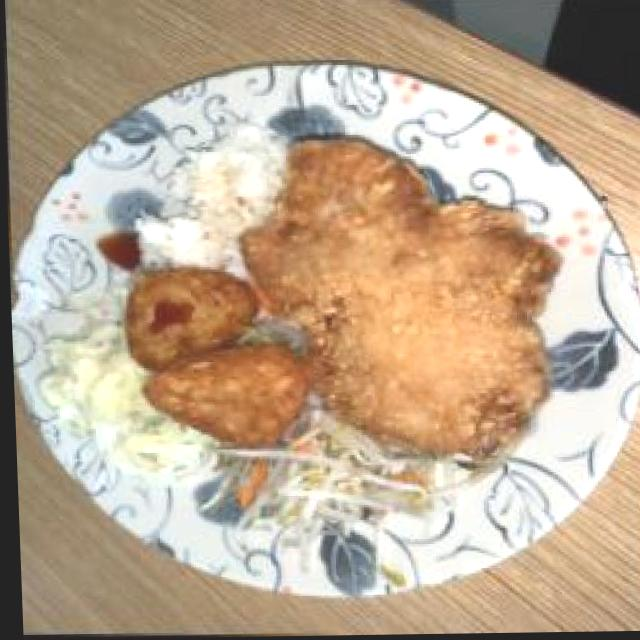chinese_cabbage: (39, 296, 167, 478)
fried_chicken: (271, 136, 558, 457)
mung_bean_sprouts: (241, 433, 446, 525)
rice: (144, 120, 283, 271)
triangle_hash_brown: (126, 269, 314, 452)
